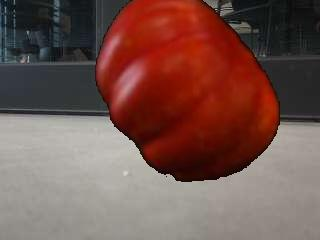Pumpkin: (94, 0, 280, 183)
